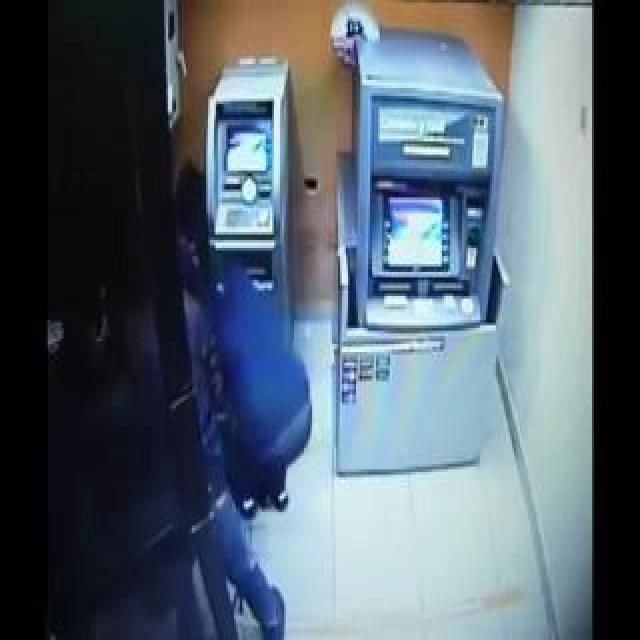thief: (160, 178, 263, 398)
